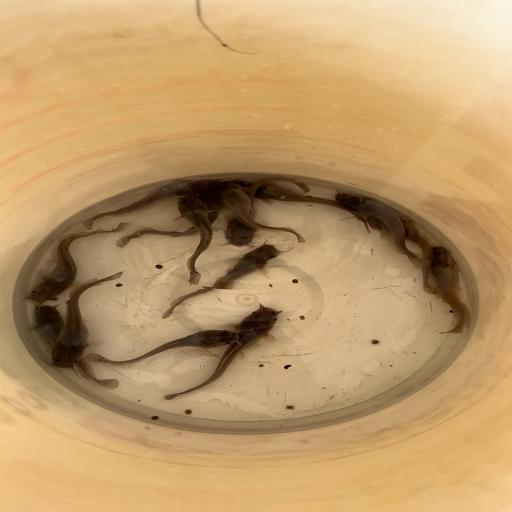lele: (162, 305, 282, 401), (26, 221, 132, 306), (160, 244, 281, 318), (42, 271, 125, 371), (329, 192, 430, 269), (30, 304, 120, 390), (234, 179, 372, 234), (80, 178, 221, 230), (112, 186, 224, 248), (224, 176, 311, 247), (362, 213, 437, 295), (86, 327, 242, 366), (216, 182, 307, 243), (424, 246, 474, 335), (169, 194, 215, 286)
